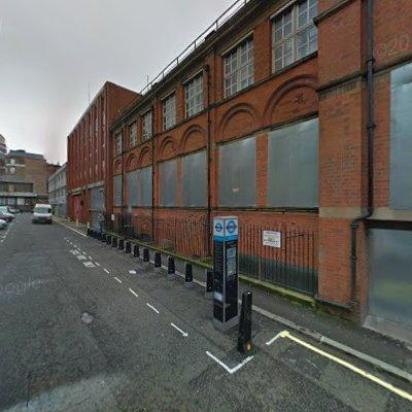moving-light-truck: (30, 202, 54, 226)
stationary-car-onstreet: (0, 208, 15, 224)
